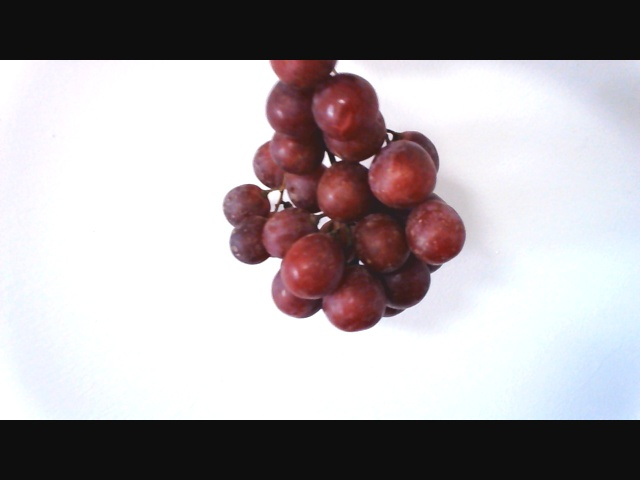grape: (213, 65, 458, 326)
